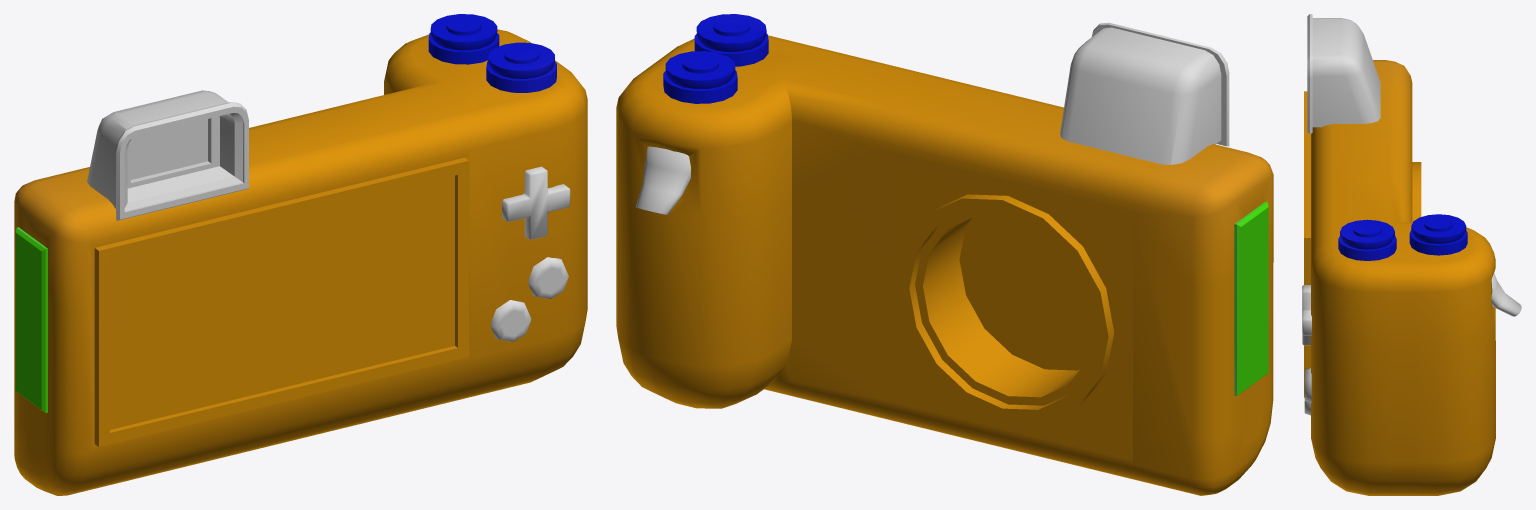
File: Camera.fbx
3 views of the same model, side by side, from view 1: azimuth 30°, elevation 25°; view 2: azimuth 150°, elevation 25°; view 3: azimuth 270°, elevation 25° (orthographic). The views are drawn at different scales.
Parts seen in each view (by area): view 1: Body, View Finder, Dials, Cube, Buttons; view 2: Body, View Finder, Dials, Cube, Trigger; view 3: Body, View Finder, Dials, Buttons, Trigger.
Boxes of the visible parts, x1,y1,x2,y2 form: Body: (14, 29, 587, 495); View Finder: (87, 90, 248, 220); Dials: (428, 14, 556, 92); Cube: (15, 227, 47, 412); Buttons: (490, 166, 570, 341); Body: (616, 35, 1273, 495); View Finder: (1060, 22, 1229, 164); Dials: (663, 14, 768, 103); Cube: (1234, 201, 1268, 395); Trigger: (635, 146, 690, 214); Body: (1304, 60, 1495, 495); View Finder: (1307, 14, 1380, 133); Dials: (1338, 214, 1467, 260); Buttons: (1302, 285, 1311, 415); Trigger: (1491, 273, 1521, 316).
Size of the model in its own units: 766 by 501 by 322.
